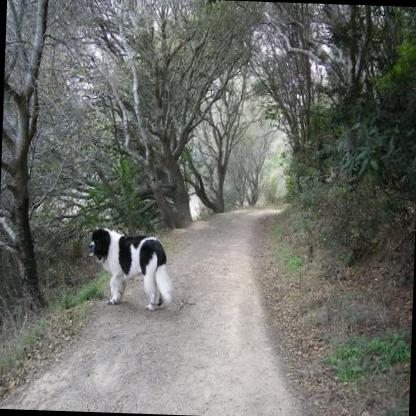Newfoundland: (84, 224, 175, 312)
